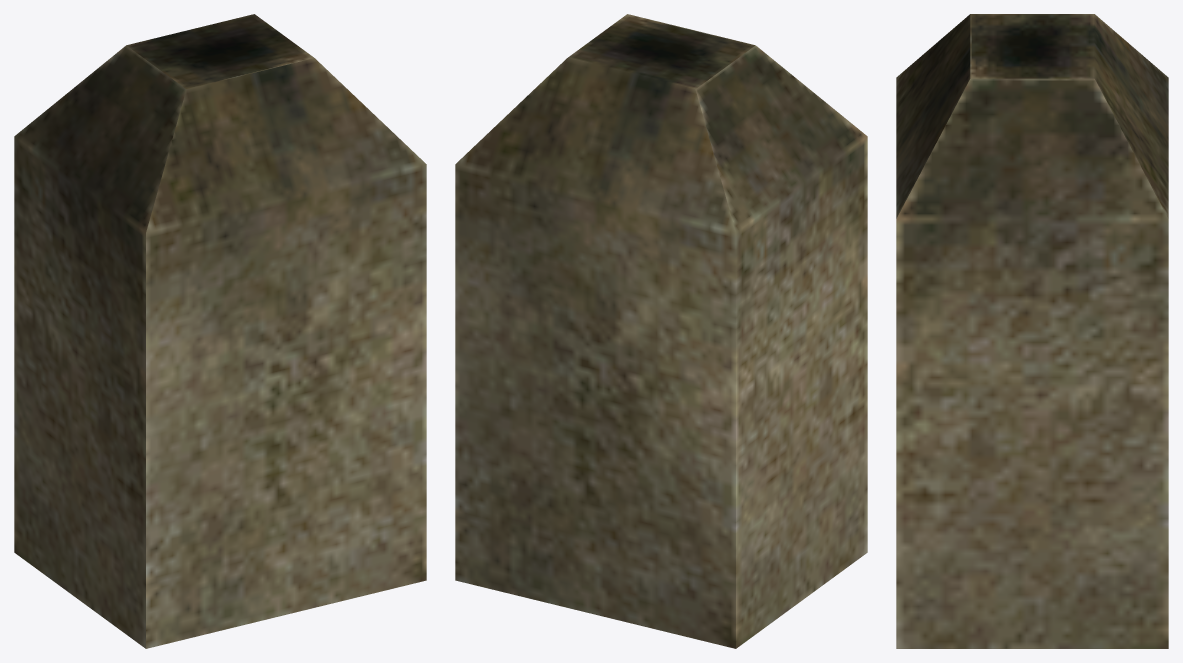
The model's file is hrt_pipe3.glb.
3 views of the same model, side by side, from view 1: azimuth 30°, elevation 25°; view 2: azimuth 150°, elevation 25°; view 3: azimuth 270°, elevation 25° (orthographic). The views are drawn at different scales.
Parts seen in each view (by area): view 1: hrt_pipe3; view 2: hrt_pipe3; view 3: hrt_pipe3.
Part boxes in pixels (box(x1,y1,x2,y2)): hrt_pipe3: box(14, 14, 426, 648); hrt_pipe3: box(455, 14, 867, 648); hrt_pipe3: box(896, 14, 1168, 648).
Size of the model in its own units: 0.5572 by 0.9766 by 0.453.
1 material, 1 textured.
